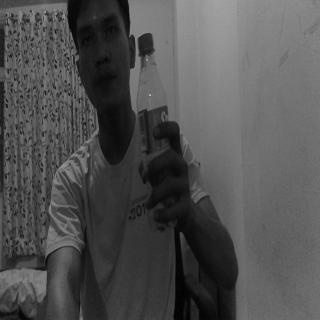plastic_bottles: (137, 32, 176, 231)
